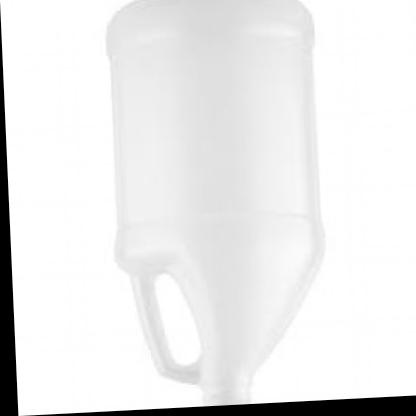trash: (107, 0, 322, 402)
